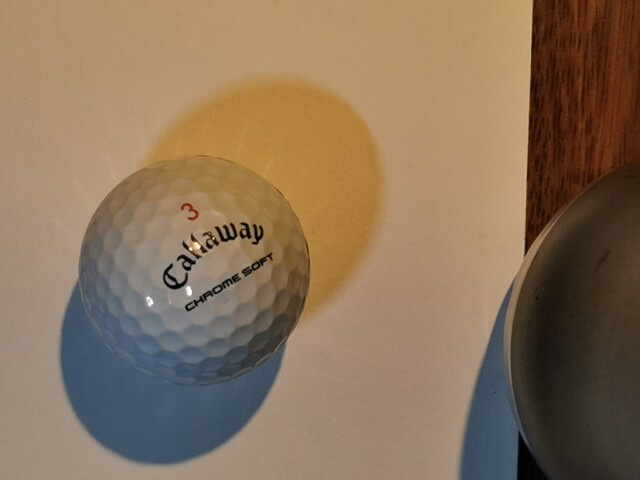Ball: (78, 154, 311, 387)
Callaway: (162, 221, 264, 290)
